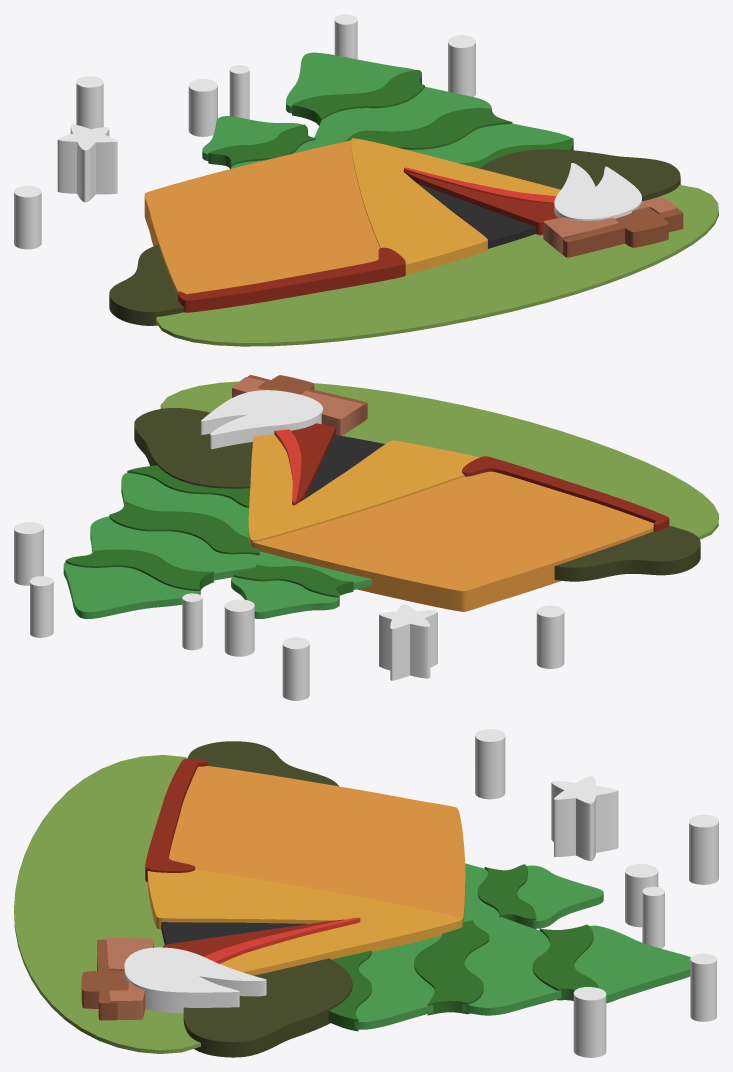
File: emoji_u1f3d5.glb
3 views of the same model, one above another, from view 1: azimuth 30°, elevation 25°; view 2: azimuth 150°, elevation 25°; view 3: azimuth 270°, elevation 25° (orthographic). The views are drawn at different scales.
Visible parts, largest first — view 1: emoji_u1f3d5; view 2: emoji_u1f3d5; view 3: emoji_u1f3d5.
Boxes of the visible parts, x1,y1,x2,y2 form: emoji_u1f3d5: (14,14,718,346); emoji_u1f3d5: (14,375,718,700); emoji_u1f3d5: (14,729,718,1057).
Bounding box in the file's own units: 0.034 × 0.003 × 0.0334.
